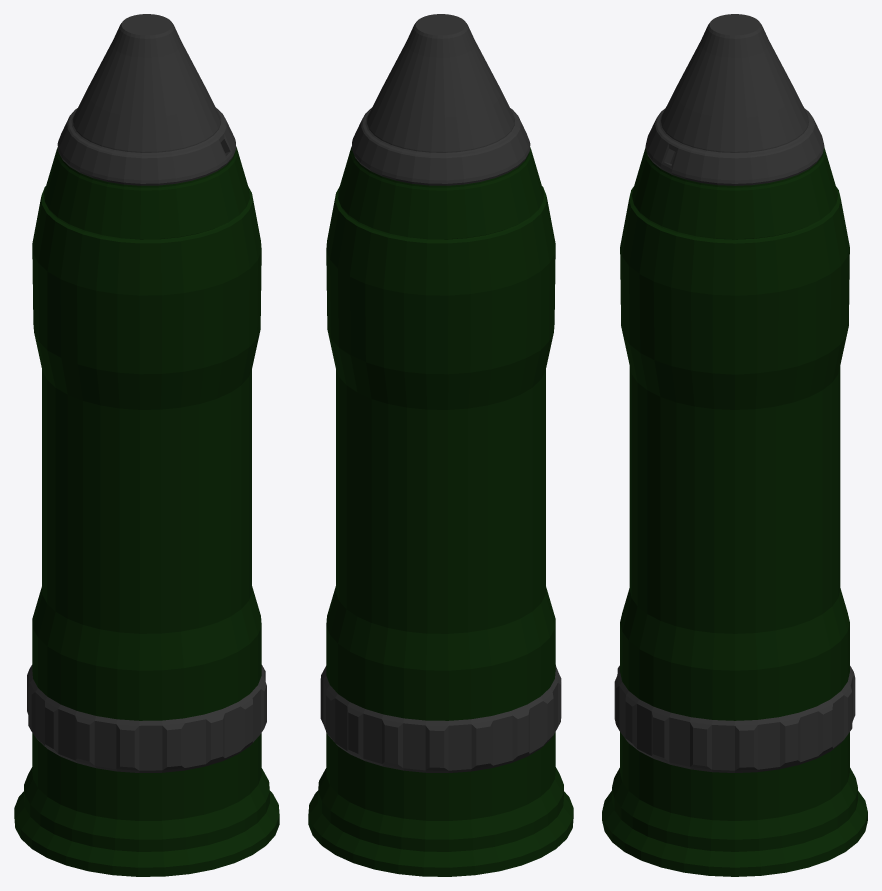
File: tank_shell.glb
3 views of the same model, side by side, from view 1: azimuth 30°, elevation 25°; view 2: azimuth 150°, elevation 25°; view 3: azimuth 270°, elevation 25° (orthographic).
Parts seen in each view (by area): view 1: TankShell; view 2: TankShell; view 3: TankShell.
Part boxes in pixels (x1,y1,x2,y2): TankShell: (14,14,279,876); TankShell: (308,14,573,876); TankShell: (602,14,867,876).
Bounding box in the file's own units: 2.31 × 7.64 × 2.31.
